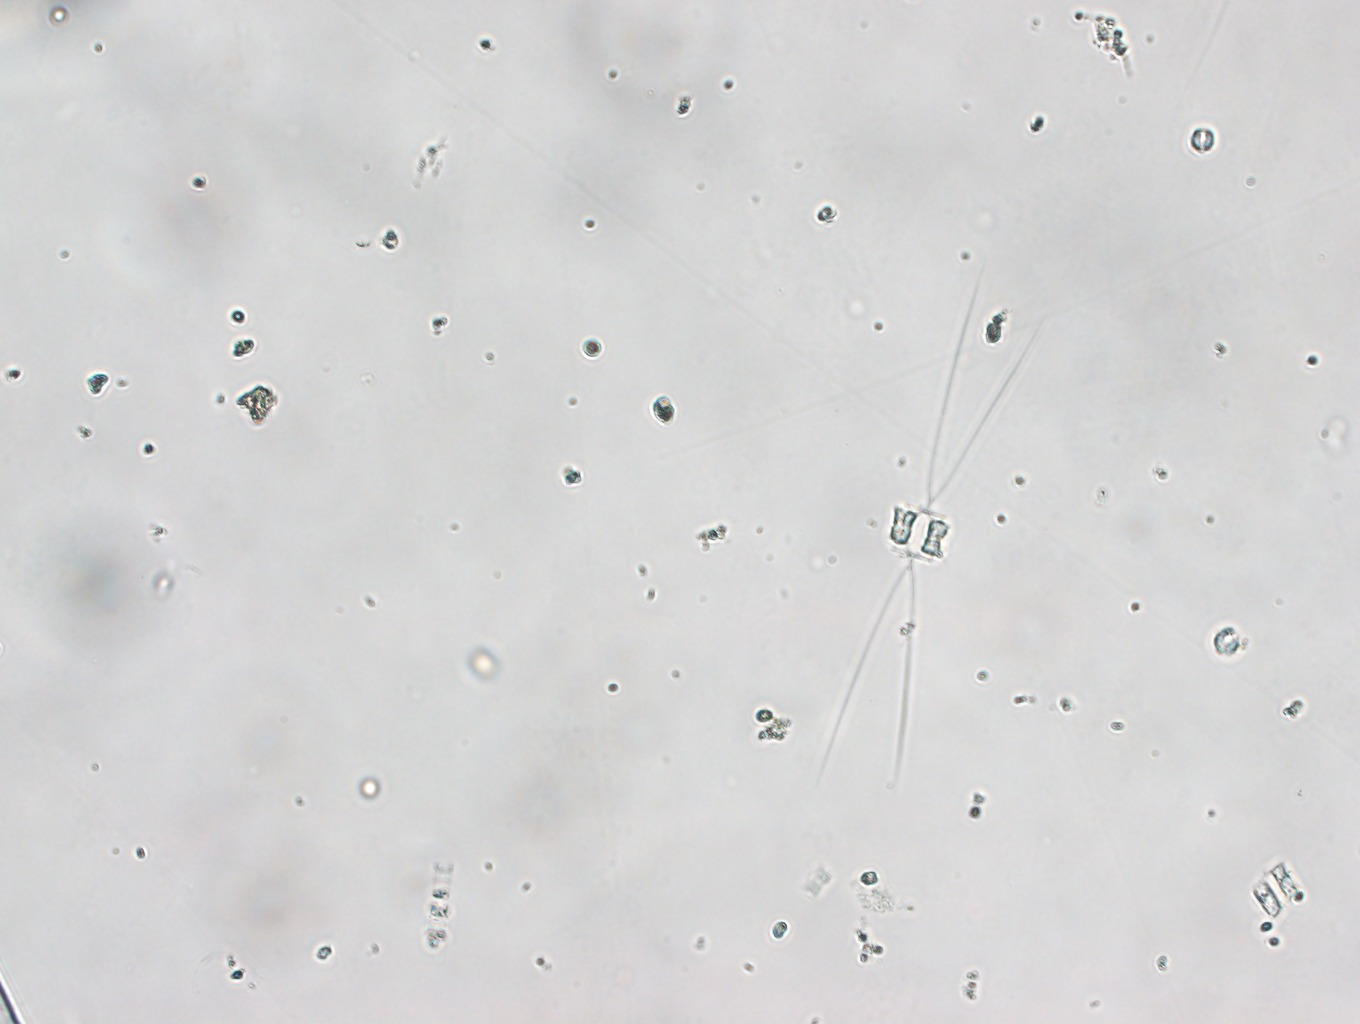chaetoceros: (814, 251, 1047, 793)
